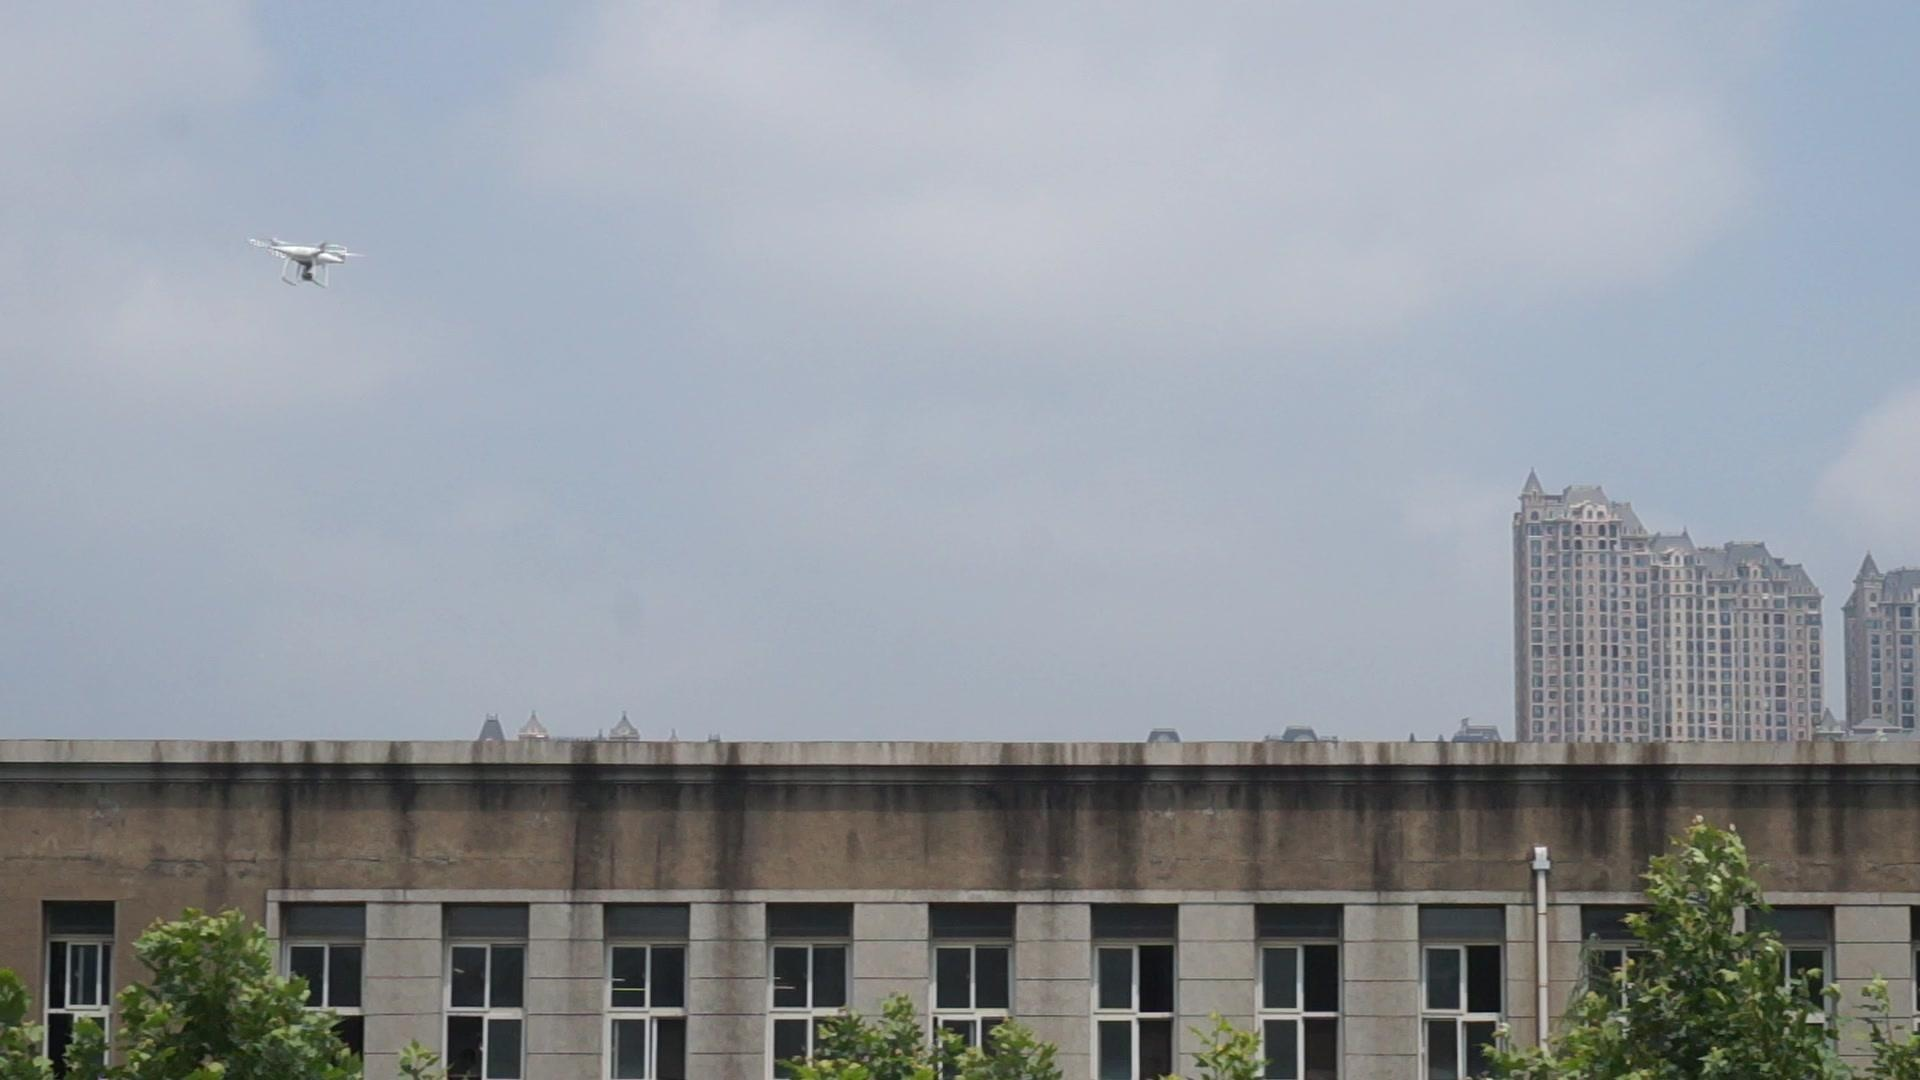UAV: (249, 237, 365, 290)
